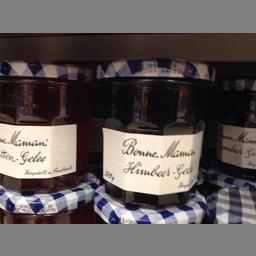jam: (95, 57, 215, 206), (0, 60, 90, 190)
